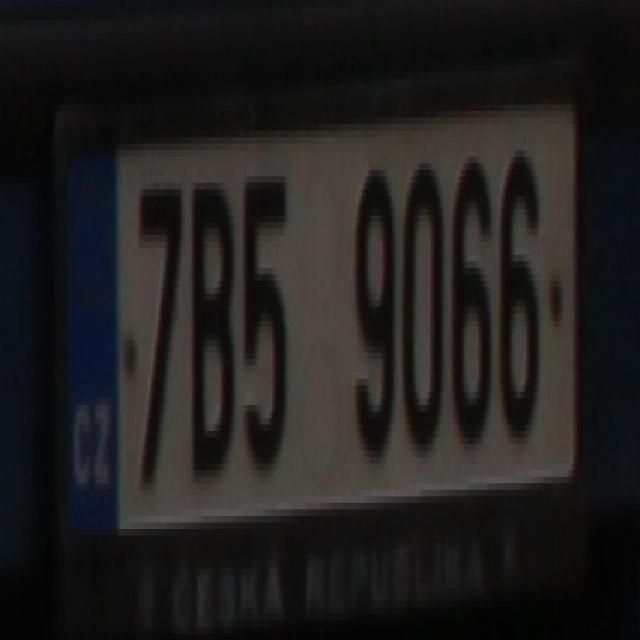0: (401, 157, 446, 457)
5: (240, 163, 285, 470)
6: (496, 137, 544, 457), (453, 157, 490, 450)
7: (132, 170, 180, 496)
9: (353, 157, 398, 450)
B: (189, 170, 235, 477)
